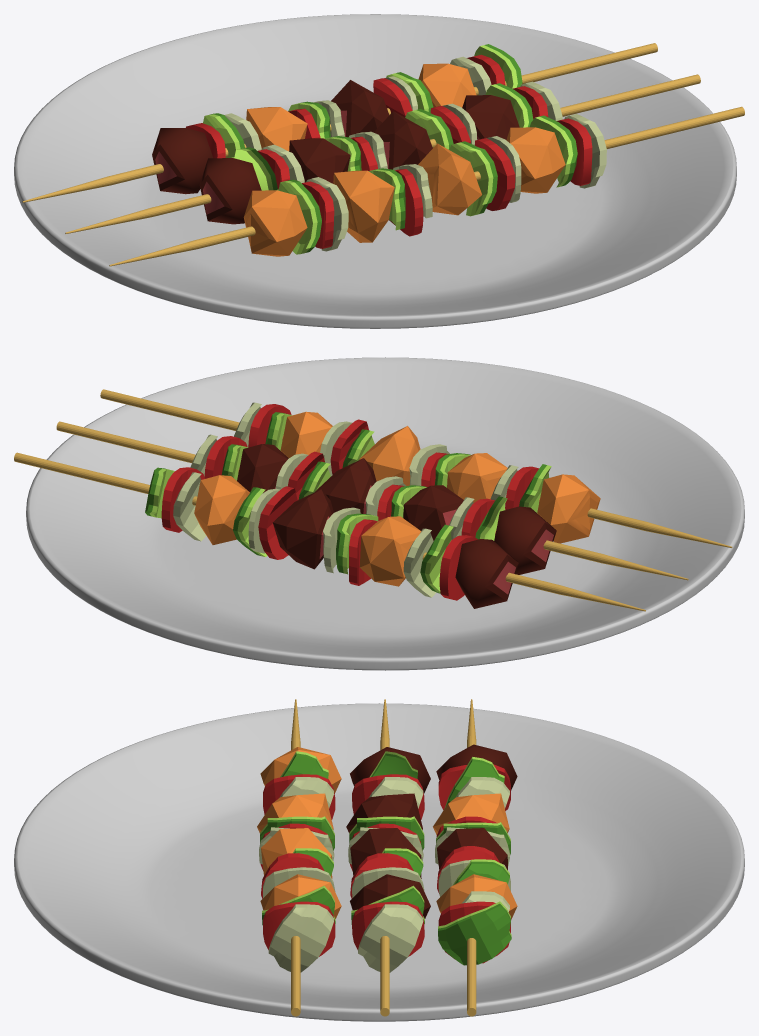
Rendered from espetinho.glb.
3 renders of one model, top to bottom at view 1: azimuth 30°, elevation 25°; view 2: azimuth 150°, elevation 25°; view 3: azimuth 270°, elevation 25°, orthographic.
Parts seen in each view (by area): view 1: escala-real; view 2: escala-real; view 3: escala-real.
Part boxes in pixels (x1,y1,x2,y2): escala-real: [14, 14, 744, 328]; escala-real: [14, 357, 744, 670]; escala-real: [14, 699, 744, 1021].
Bounding box in the file's own units: 0.28 × 0.0368 × 0.2745.
